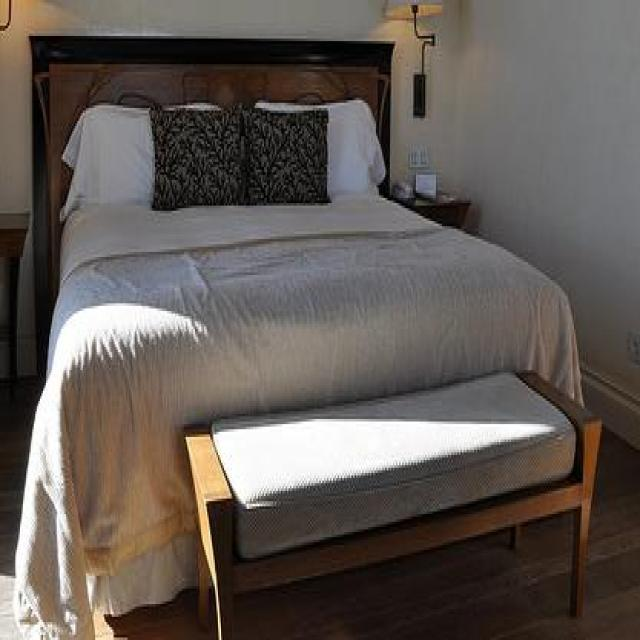bed: (17, 31, 586, 637)
